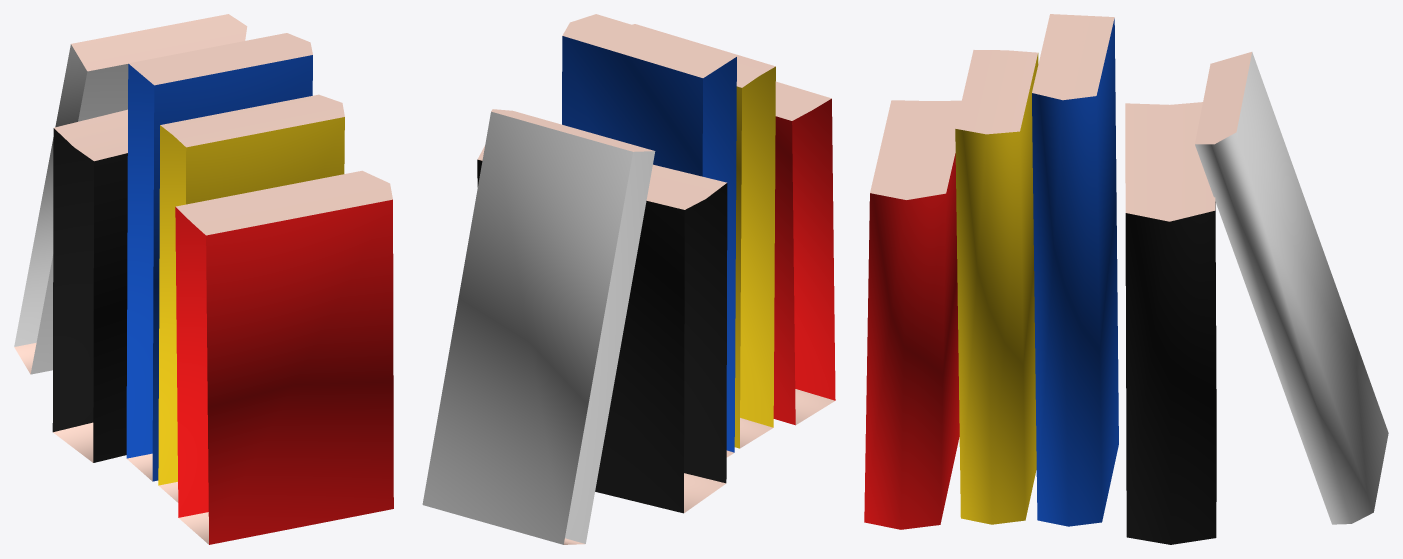
File: Books.FBX
3 views of the same model, side by side, from view 1: azimuth 30°, elevation 25°; view 2: azimuth 150°, elevation 25°; view 3: azimuth 270°, elevation 25° (orthographic). The views are drawn at different scales.
Visible parts, largest first — view 1: BooksAnim; view 2: BooksAnim; view 3: BooksAnim.
Part boxes in pixels (box(x1,y1,x2,y2)): BooksAnim: box(14, 14, 393, 544); BooksAnim: box(422, 14, 835, 544); BooksAnim: box(864, 14, 1388, 544).
Bounding box in the file's own units: 5.56 × 9.47 × 10.52.
